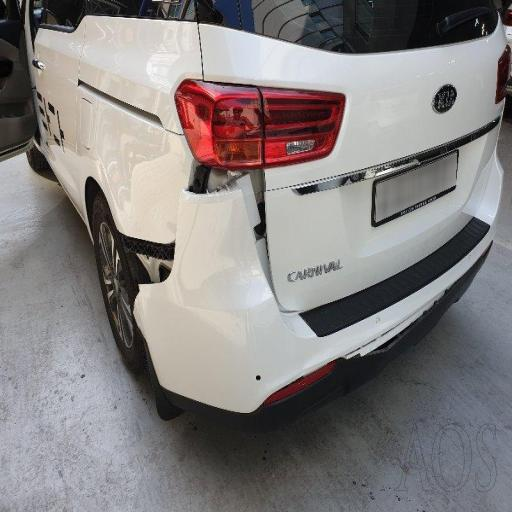broken: (100, 54, 319, 346)
